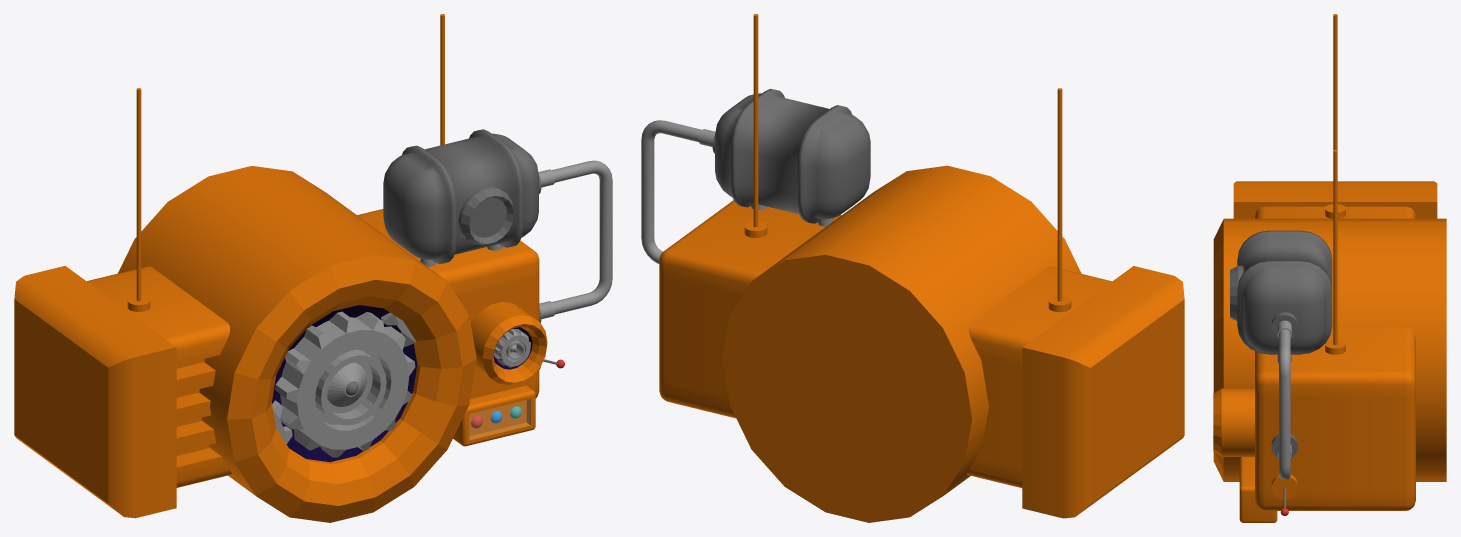
File: 天花板物1.FBX
3 views of the same model, side by side, from view 1: azimuth 30°, elevation 25°; view 2: azimuth 150°, elevation 25°; view 3: azimuth 270°, elevation 25° (orthographic). The views are drawn at different scales.
Visible parts, largest first — view 1: Cylinder001, Box001, ChamferBox001, Cylinder002, ChamferBox002, Cylinder008, ChamferBox003, Loft001, Cylinder021, Cylinder003, Plane001, Cylinder017 (+1 smaller); view 2: Cylinder001, Box001, ChamferBox001, ChamferBox002, Loft001, Cylinder018, Cylinder017; view 3: ChamferBox001, Cylinder001, ChamferBox002, Box001, Cylinder008, Loft001, ChamferBox003, Cylinder018, Cylinder017, Cylinder019, Cylinder021, Cylinder012.
Boxes of the visible parts, box(x1,y1,x2,y2) form: Cylinder001: box(118, 166, 476, 522); Box001: box(14, 266, 176, 518); ChamferBox001: box(87, 209, 539, 487); Cylinder002: box(275, 311, 415, 457); ChamferBox002: box(383, 129, 538, 263); Cylinder008: box(470, 302, 547, 384); ChamferBox003: box(453, 385, 535, 446); Loft001: box(552, 160, 612, 314); Cylinder021: box(458, 186, 513, 245); Cylinder003: box(272, 305, 417, 462); Plane001: box(470, 400, 529, 439); Cylinder017: box(136, 88, 141, 301); Cylinder001: box(722, 165, 1081, 522); Box001: box(1022, 266, 1184, 518); ChamferBox001: box(659, 200, 1111, 487); ChamferBox002: box(715, 89, 870, 223); Loft001: box(641, 120, 701, 263); Cylinder018: box(753, 14, 758, 227); Cylinder017: box(1057, 88, 1062, 301); ChamferBox001: box(1255, 206, 1415, 510); Cylinder001: box(1213, 218, 1446, 481); ChamferBox002: box(1237, 230, 1332, 354); Box001: box(1233, 181, 1437, 218); Cylinder008: box(1213, 388, 1254, 456); Loft001: box(1279, 329, 1290, 480); ChamferBox003: box(1239, 457, 1277, 522); Cylinder018: box(1333, 149, 1337, 344); Cylinder017: box(1333, 14, 1337, 149); Cylinder019: box(1271, 474, 1297, 499); Cylinder021: box(1230, 265, 1243, 320); Cylinder012: box(1271, 312, 1297, 336).
Size of the model in its own units: 492 by 379 by 208.
